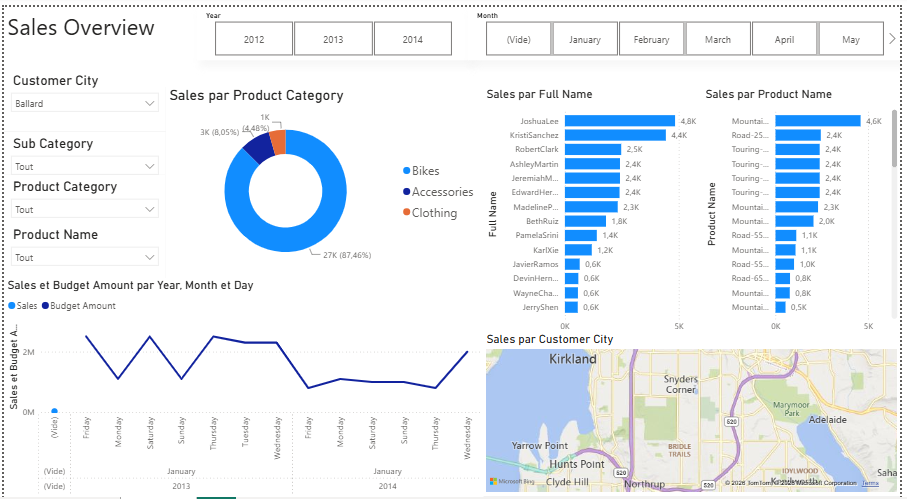

What the dashboard file says about the page in this screenshot:
{"tool":"powerbi","page":{"name":"Page 1","canvas":[1280,720],"ordinal":0},"visuals":[{"type":"textbox","box":[0,114.1,1280.5,605.9],"z":0},{"type":"textbox","box":[0,0,1280,75.6],"z":1000},{"type":"slicer","fields":{"Values":["DIM_Customers.Customer City"]},"box":[0,89.3,231.2,89.3],"z":2000},{"type":"slicer","fields":{"Values":["DIM_Products.Sub Category"]},"box":[0,178.5,231.2,61.5],"z":3000},{"type":"slicer","fields":{"Values":["DIM_Products.Product Category"]},"box":[0,240,231.2,68.8],"z":4000},{"type":"slicer","fields":{"Values":["DIM_Products.Product Name"]},"box":[0,308.8,231.2,79],"z":5000},{"type":"slicer","fields":{"Values":["DIM_Calendar.Year"]},"box":[275.1,0,387.8,76.1],"z":6000},{"type":"slicer","fields":{"Values":["DIM_Calendar.Month"]},"box":[662.9,0,617.6,76.1],"z":7000},{"type":"donutChart","fields":{"Category":["DIM_Products.Product Category"],"Y":["Key Measures.Sales"]},"box":[231.2,114.1,453.7,273.7],"z":8000},{"type":"lineChart","fields":{"Y":["Key Measures.Sales","Key Measures.Budget Amount"],"Category":["DIM_Calendar.Year","DIM_Calendar.Month","DIM_Calendar.Day"]},"box":[0,387.8,684.9,332.2],"z":9000},{"type":"barChart","fields":{"Y":["Key Measures.Sales"],"Category":["DIM_Customers.Full Name"]},"box":[684.9,114.1,332.2,373.2],"z":10000},{"type":"barChart","fields":{"Y":["Key Measures.Sales"],"Category":["DIM_Products.Product Name"]},"box":[996.6,114.1,283.9,373.2],"z":11000},{"type":"map","fields":{"Category":["DIM_Customers.Customer City"],"Size":["Key Measures.Sales"]},"box":[684.9,463.9,595.6,232.7],"z":12000}]}

Visuals, with their boxes in screenshot pixels (x1, y1, x2, y2), scaled from the page's 1280x720 canvas onto the 907x499 screenshot:
textbox: bbox(0, 79, 906, 498)
textbox: bbox(0, 0, 906, 52)
slicer - DIM_Customers.Customer City: bbox(0, 62, 164, 124)
slicer - DIM_Products.Sub Category: bbox(0, 124, 164, 166)
slicer - DIM_Products.Product Category: bbox(0, 166, 164, 214)
slicer - DIM_Products.Product Name: bbox(0, 214, 164, 269)
slicer - DIM_Calendar.Year: bbox(195, 0, 470, 53)
slicer - DIM_Calendar.Month: bbox(470, 0, 906, 53)
donutChart - DIM_Products.Product Category x Key Measures.Sales: bbox(164, 79, 485, 269)
lineChart - Key Measures.Sales x Key Measures.Budget Amount: bbox(0, 269, 485, 498)
barChart - Key Measures.Sales x DIM_Customers.Full Name: bbox(485, 79, 721, 338)
barChart - Key Measures.Sales x DIM_Products.Product Name: bbox(706, 79, 906, 338)
map - DIM_Customers.Customer City x Key Measures.Sales: bbox(485, 322, 906, 483)
